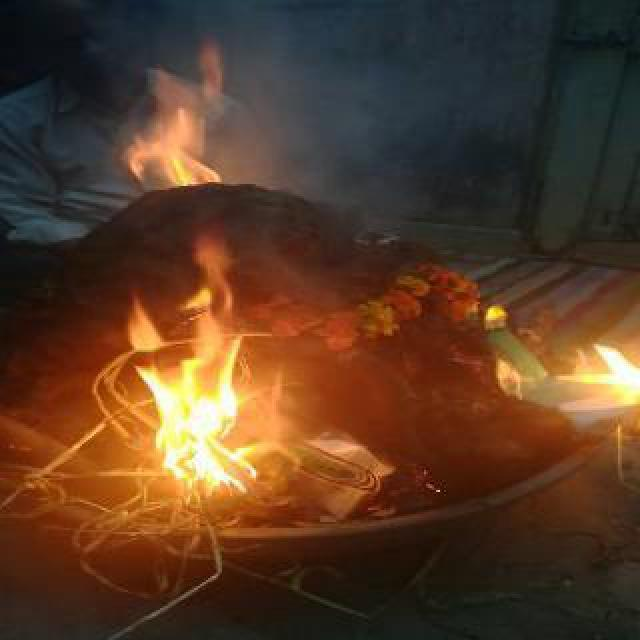fire: (108, 238, 262, 494), (116, 52, 234, 188), (550, 338, 638, 422)
